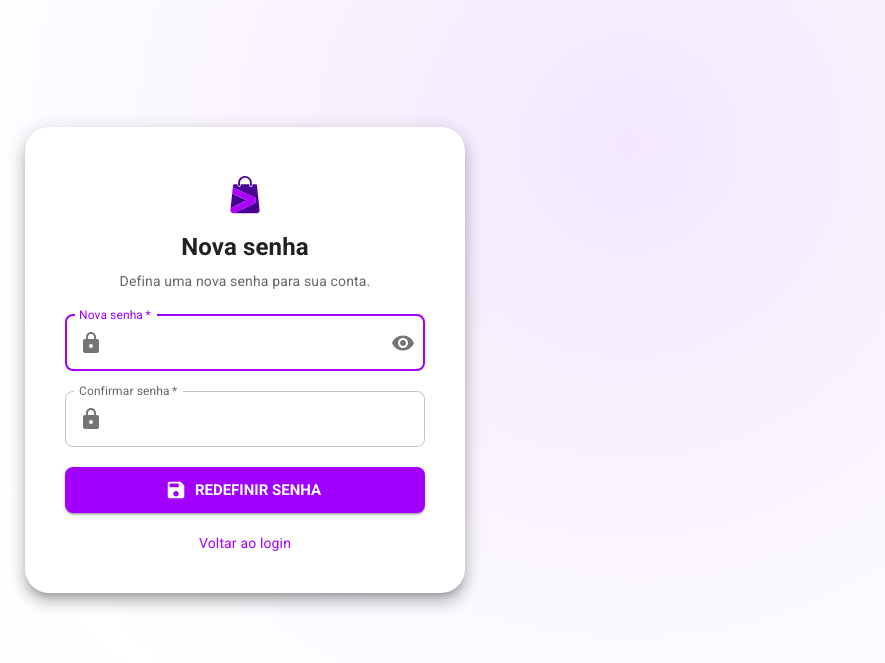
it: ResetPassword › valida divergência de senhas
The width and height of the screenshot is (885, 663).
Type "12345678" into the password field labelled "Nova senha *" at [243, 343], box [111,315,375,371]
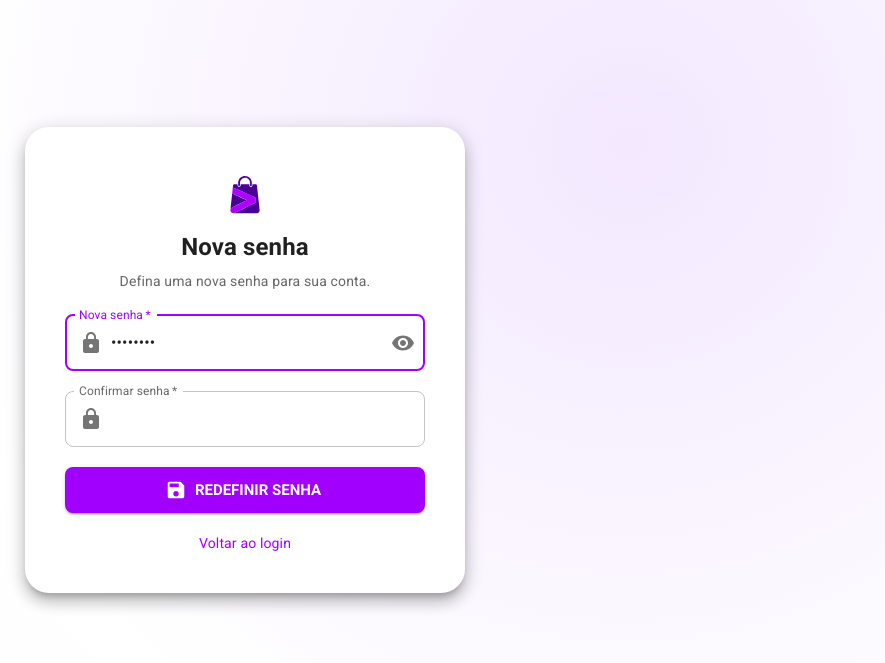
Type "99999999" into the password field labelled "Confirmar senha *" at [268, 419], box [111,391,425,447]
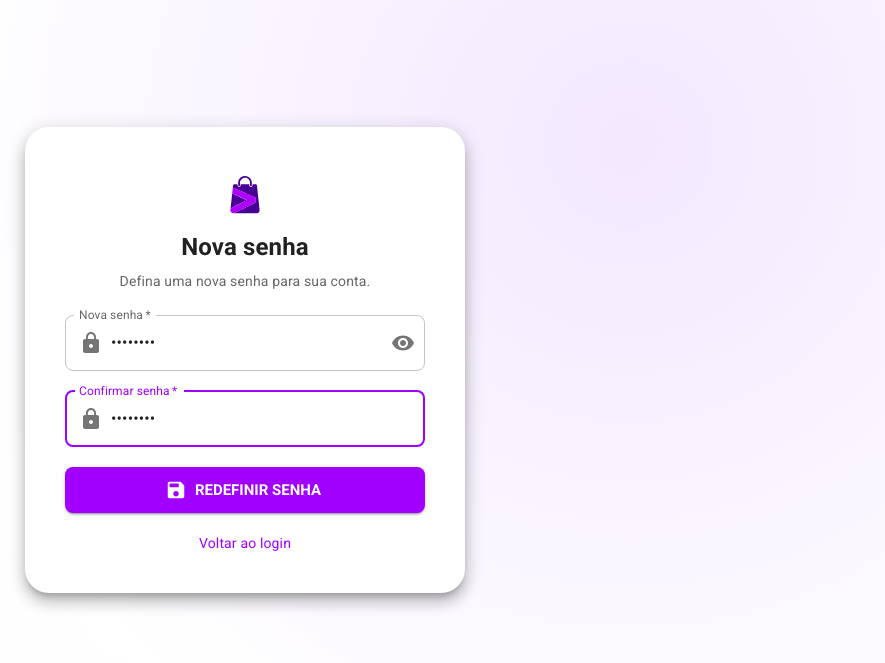
Click the button "Redefinir senha" at [245, 490], box [65,467,425,513]
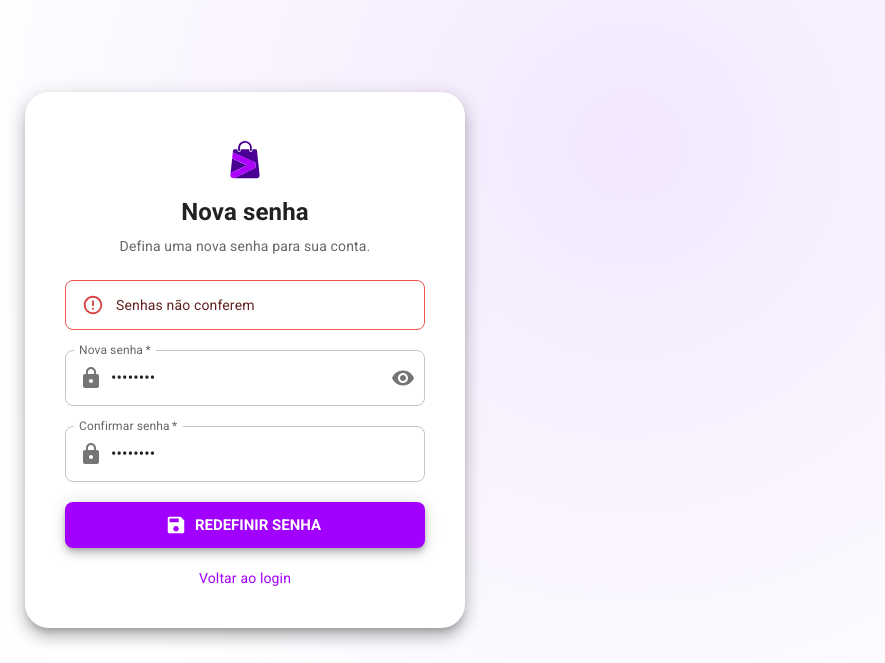
Expected: the text "Senhas não conferem" is shown, [116,297,255,313]
